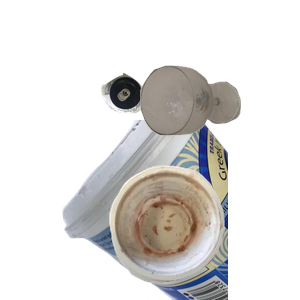glass: (138, 63, 300, 191)
metal: (99, 70, 236, 176)
plastic: (60, 120, 300, 300)
trash: (107, 163, 300, 300)
